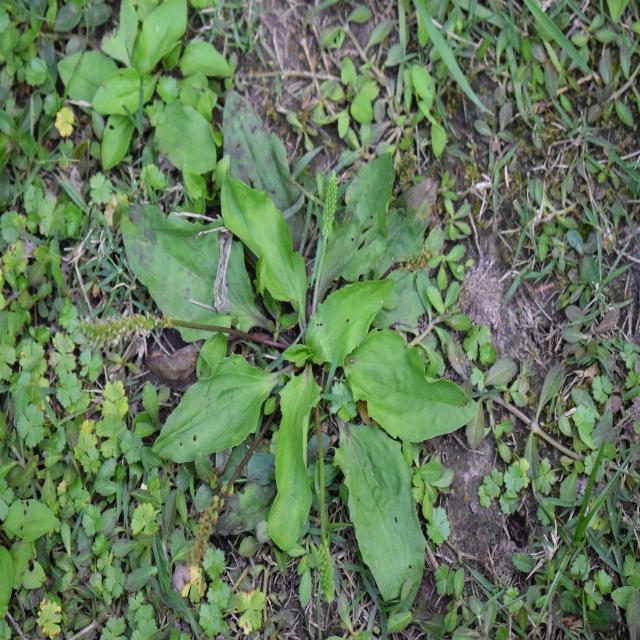plantain: (144, 167, 460, 552)
